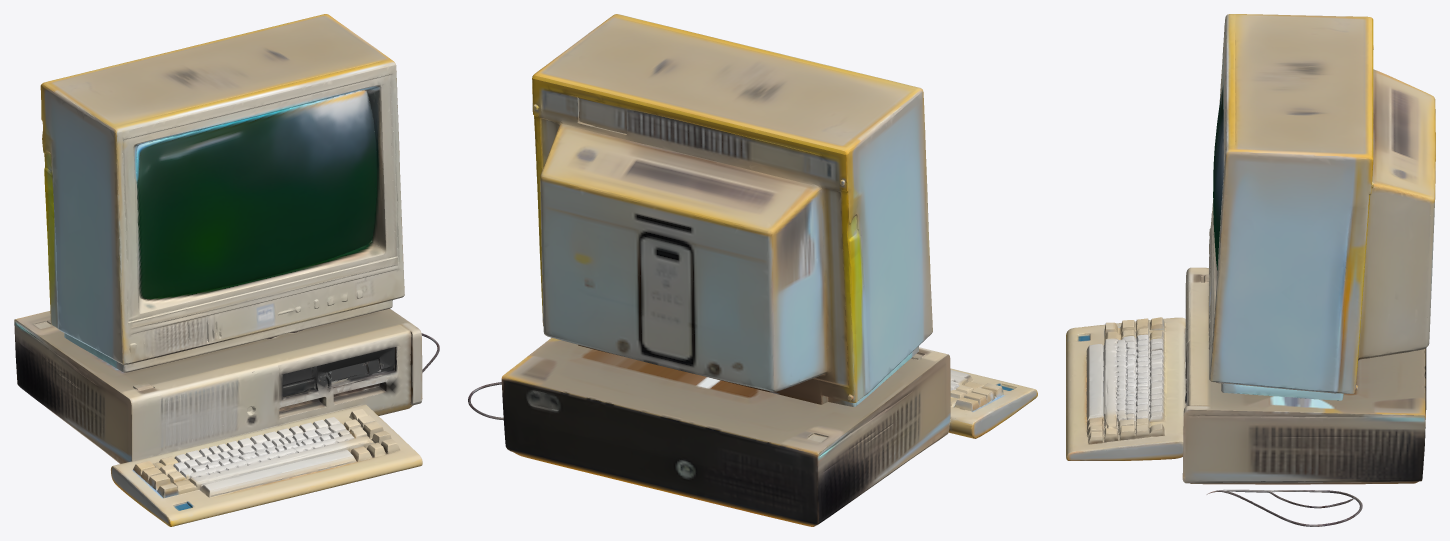
Rendered from ibm_pc_sm.glb.
3 renders of one model, left to right at view 1: azimuth 30°, elevation 25°; view 2: azimuth 150°, elevation 25°; view 3: azimuth 270°, elevation 25°, orthographic. The views are drawn at different scales.
Size of the model in its own units: 1.9 by 1.56 by 1.55.
1 material, 1 textured.
